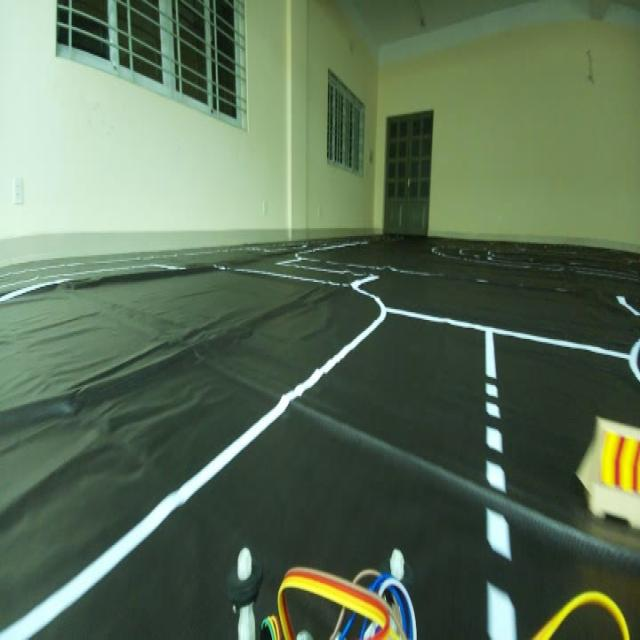roadblock: (574, 412, 640, 531)
